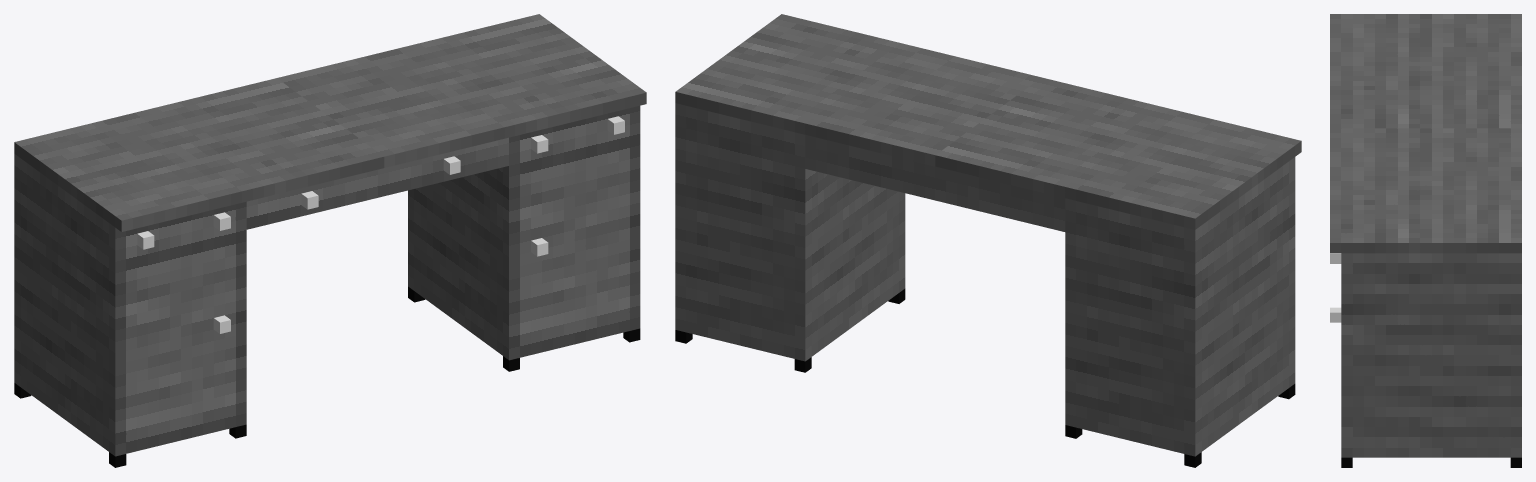
File: Desk.fbx
3 views of the same model, side by side, from view 1: azimuth 30°, elevation 25°; view 2: azimuth 150°, elevation 25°; view 3: azimuth 270°, elevation 25° (orthographic). The views are drawn at different scales.
Parts seen in each view (by area): view 1: Desk; view 2: Desk; view 3: Desk.
Part boxes in pixels (<box>): Desk: <box>14,14,646,467</box>; Desk: <box>675,14,1301,467</box>; Desk: <box>1330,14,1521,467</box>.
Size of the model in its own units: 480 by 220 by 170.
